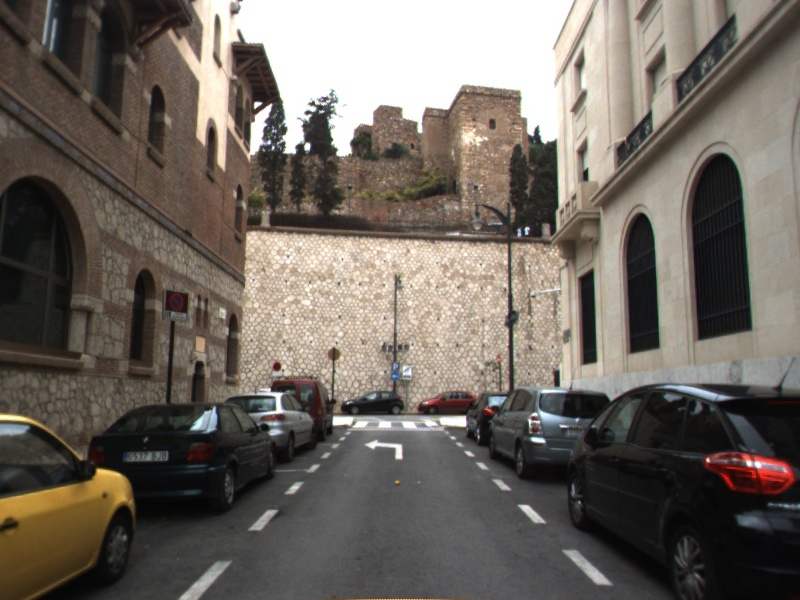LEFT: (363, 437, 405, 461)
